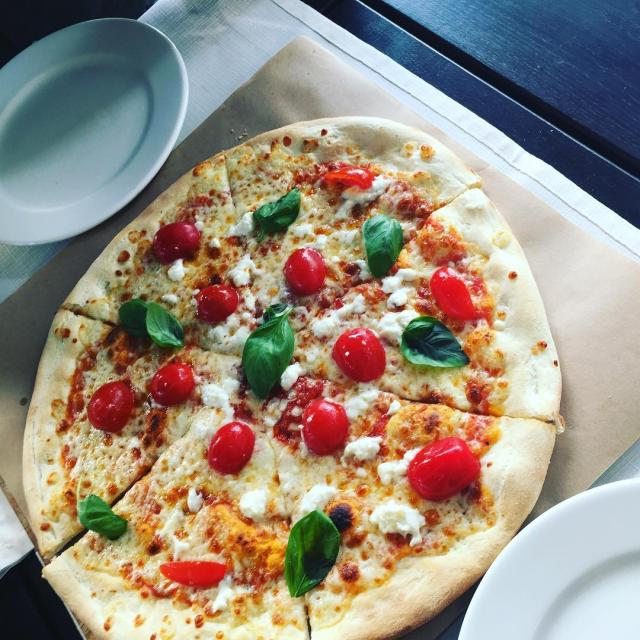basil: (241, 298, 296, 402), (282, 506, 341, 602), (397, 312, 471, 373), (116, 296, 189, 352), (70, 472, 128, 542), (247, 184, 305, 245), (361, 205, 407, 280)
pizza: (25, 118, 564, 639)
tomatoes: (406, 434, 484, 502), (427, 261, 488, 324), (331, 324, 388, 384), (298, 396, 354, 455), (208, 417, 256, 479), (84, 378, 135, 432), (156, 556, 230, 592), (146, 359, 198, 408), (152, 220, 204, 266), (283, 246, 328, 298), (192, 282, 241, 327), (323, 164, 376, 189)
